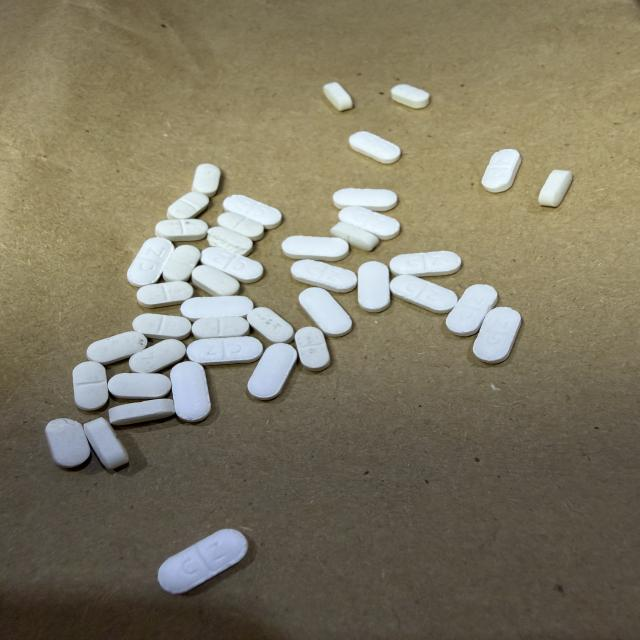pill: (158, 530, 248, 594), (248, 343, 297, 400), (473, 307, 521, 363), (446, 284, 497, 336), (390, 275, 457, 313), (299, 288, 352, 336), (170, 362, 211, 422), (200, 247, 263, 283), (84, 418, 128, 469), (127, 238, 173, 286), (45, 419, 90, 467), (187, 337, 263, 365), (291, 260, 357, 292), (223, 195, 281, 229), (339, 207, 400, 239), (129, 339, 186, 373), (87, 332, 147, 364), (181, 296, 253, 321), (390, 251, 461, 276), (73, 361, 108, 410), (247, 307, 294, 343), (109, 399, 174, 425), (482, 149, 521, 192), (282, 236, 349, 261), (349, 131, 401, 163), (109, 373, 171, 399), (358, 262, 390, 312), (295, 327, 330, 371), (137, 281, 193, 308), (333, 188, 397, 211), (192, 265, 239, 296), (133, 314, 191, 339), (330, 222, 379, 251), (163, 245, 200, 281), (217, 212, 264, 240), (207, 227, 252, 255), (192, 317, 249, 339), (539, 170, 572, 207), (156, 219, 208, 241), (167, 192, 209, 219), (192, 164, 220, 197), (391, 84, 429, 108), (323, 82, 353, 111)
